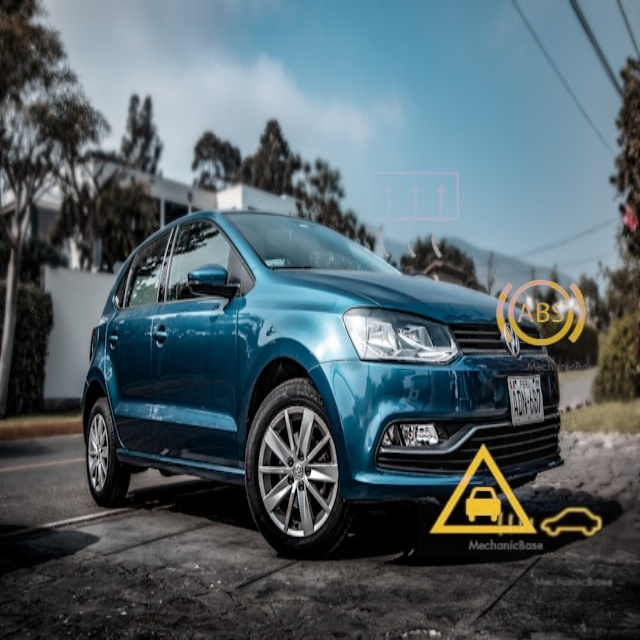symbol: (328, 130, 501, 303), (480, 455, 618, 593), (418, 426, 548, 556), (477, 250, 604, 377)
